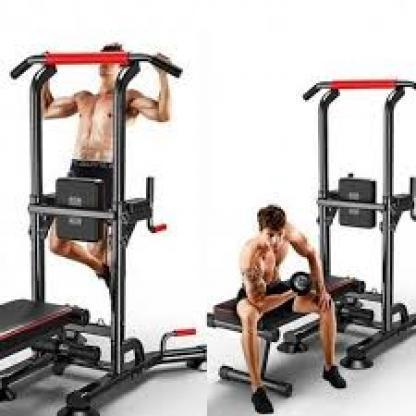chinning dipping: (9, 54, 208, 374)
